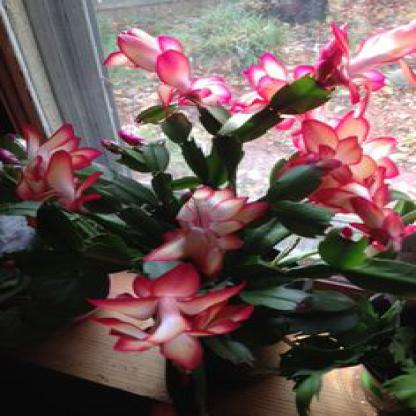Aglonema: (18, 3, 387, 264), (165, 304, 416, 416)
